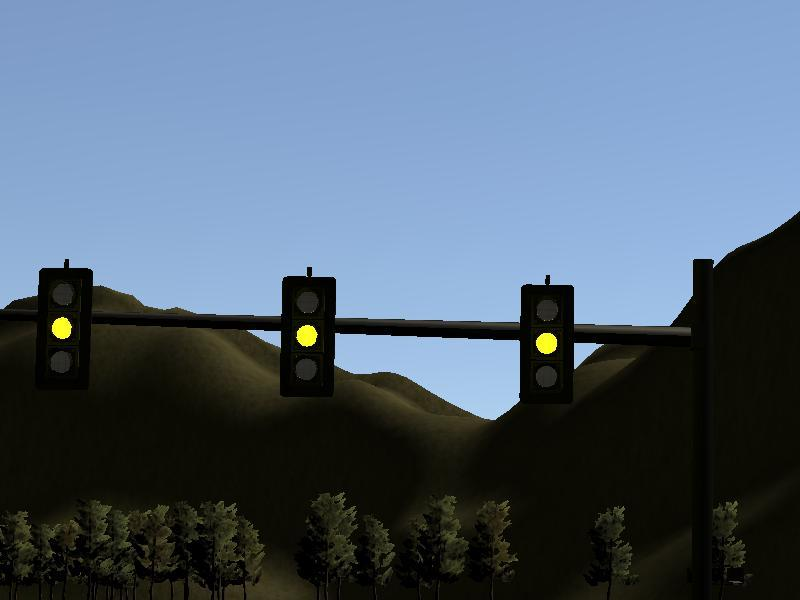Yellow: (37, 268, 92, 389), (520, 284, 574, 407), (281, 276, 335, 397)
